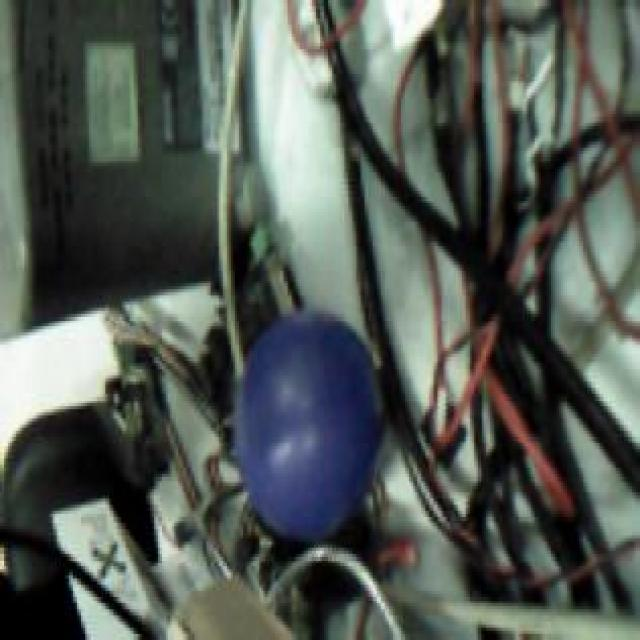BallPurple: (232, 308, 378, 544)
